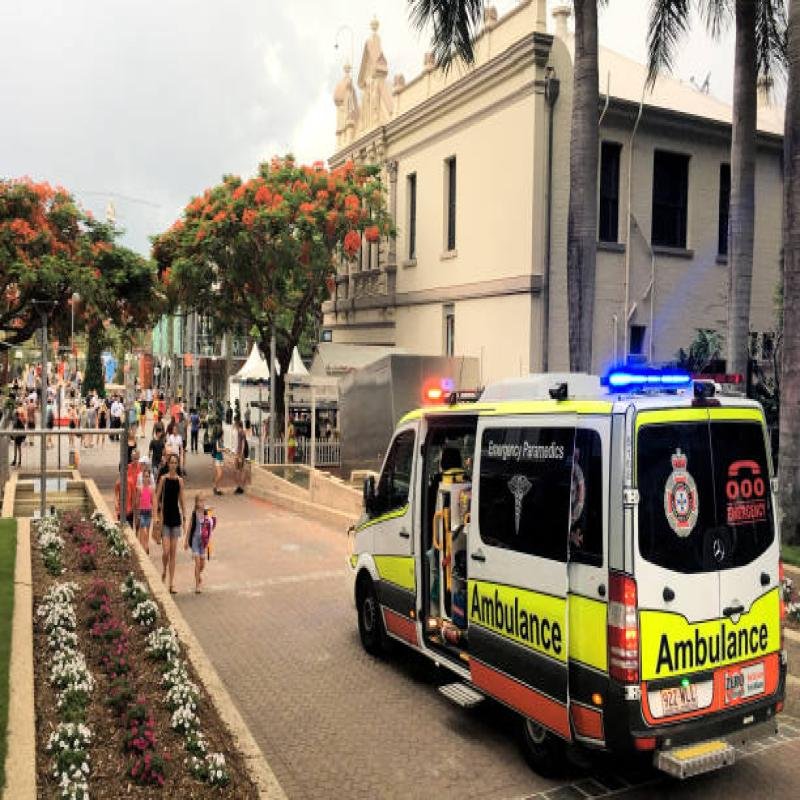ambulance: (330, 319, 793, 794)
